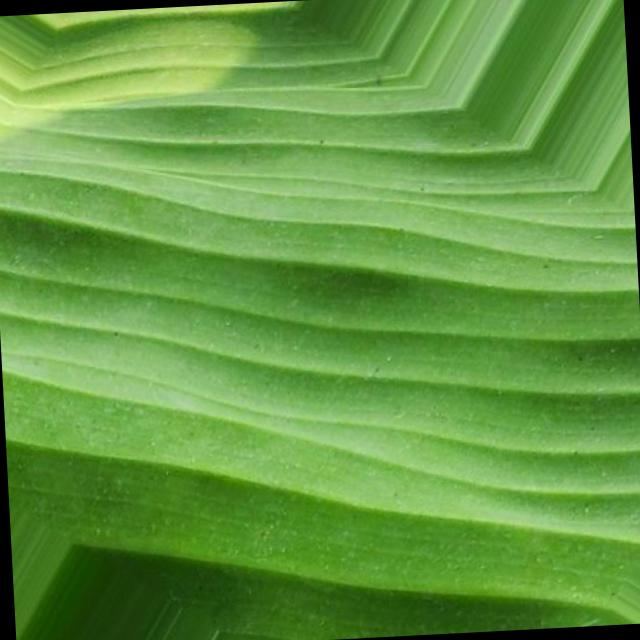Banana_Healthy: (52, 45, 554, 422)
